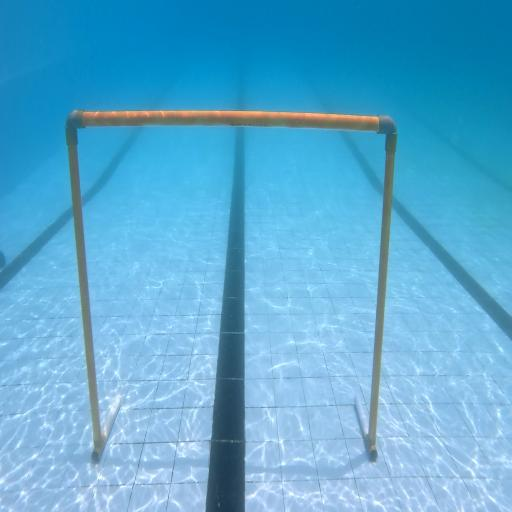gate: (66, 110, 396, 462)
